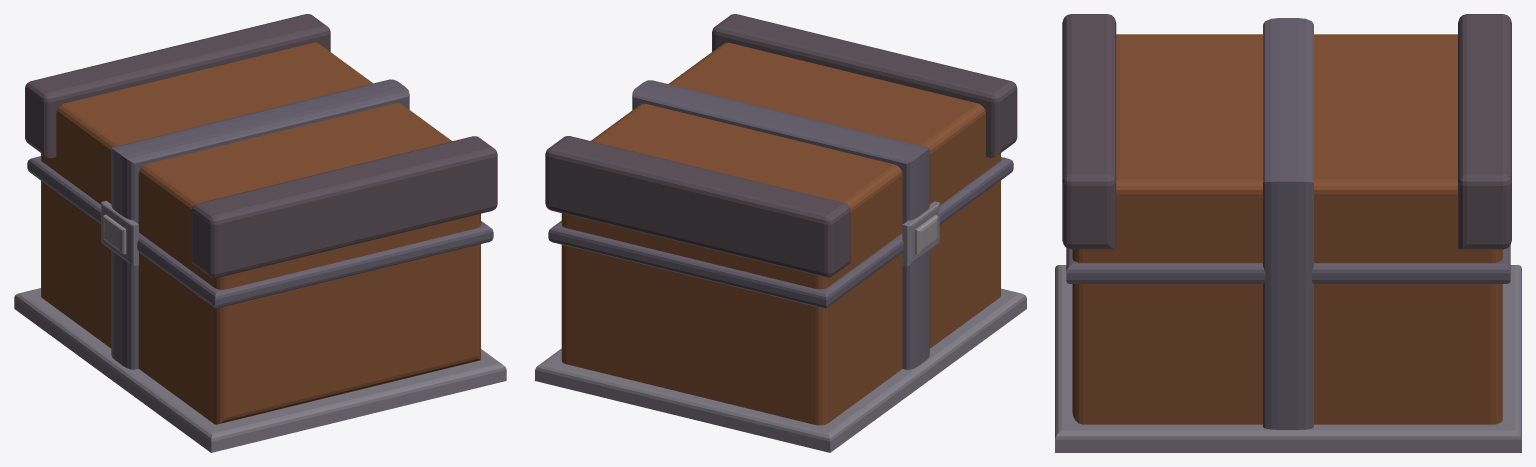
File: sunduk.fbx
3 renders of one model, left to right at view 1: azimuth 30°, elevation 25°; view 2: azimuth 150°, elevation 25°; view 3: azimuth 270°, elevation 25°, orthographic. The views are drawn at different scales.
Parts seen in each view (by area): view 1: Cube.001, Cube.006, Cube.002, Cube, Cube.004, Cube.005; view 2: Cube.001, Cube.006, Cube.002, Cube, Cube.004, Cube.005; view 3: Cube.001, Cube.002, Cube.006, Cube.
Boxes of the visible parts, x1,y1,x2,y2 form: Cube.001: (41,42,480,424); Cube.006: (25,14,497,278); Cube.002: (27,79,493,369); Cube: (14,288,506,452); Cube.004: (101,200,138,266); Cube.005: (103,214,126,254); Cube.001: (561,42,1000,425); Cube.006: (545,14,1017,277); Cube.002: (548,80,1013,369); Cube: (535,288,1026,452); Cube.004: (902,201,939,266); Cube.005: (915,215,937,254); Cube.001: (1072,34,1502,424); Cube.002: (1066,18,1510,429); Cube.006: (1062,14,1511,249); Cube: (1055,265,1521,452).
Bounding box in the file's own units: 217 × 161 × 250.
